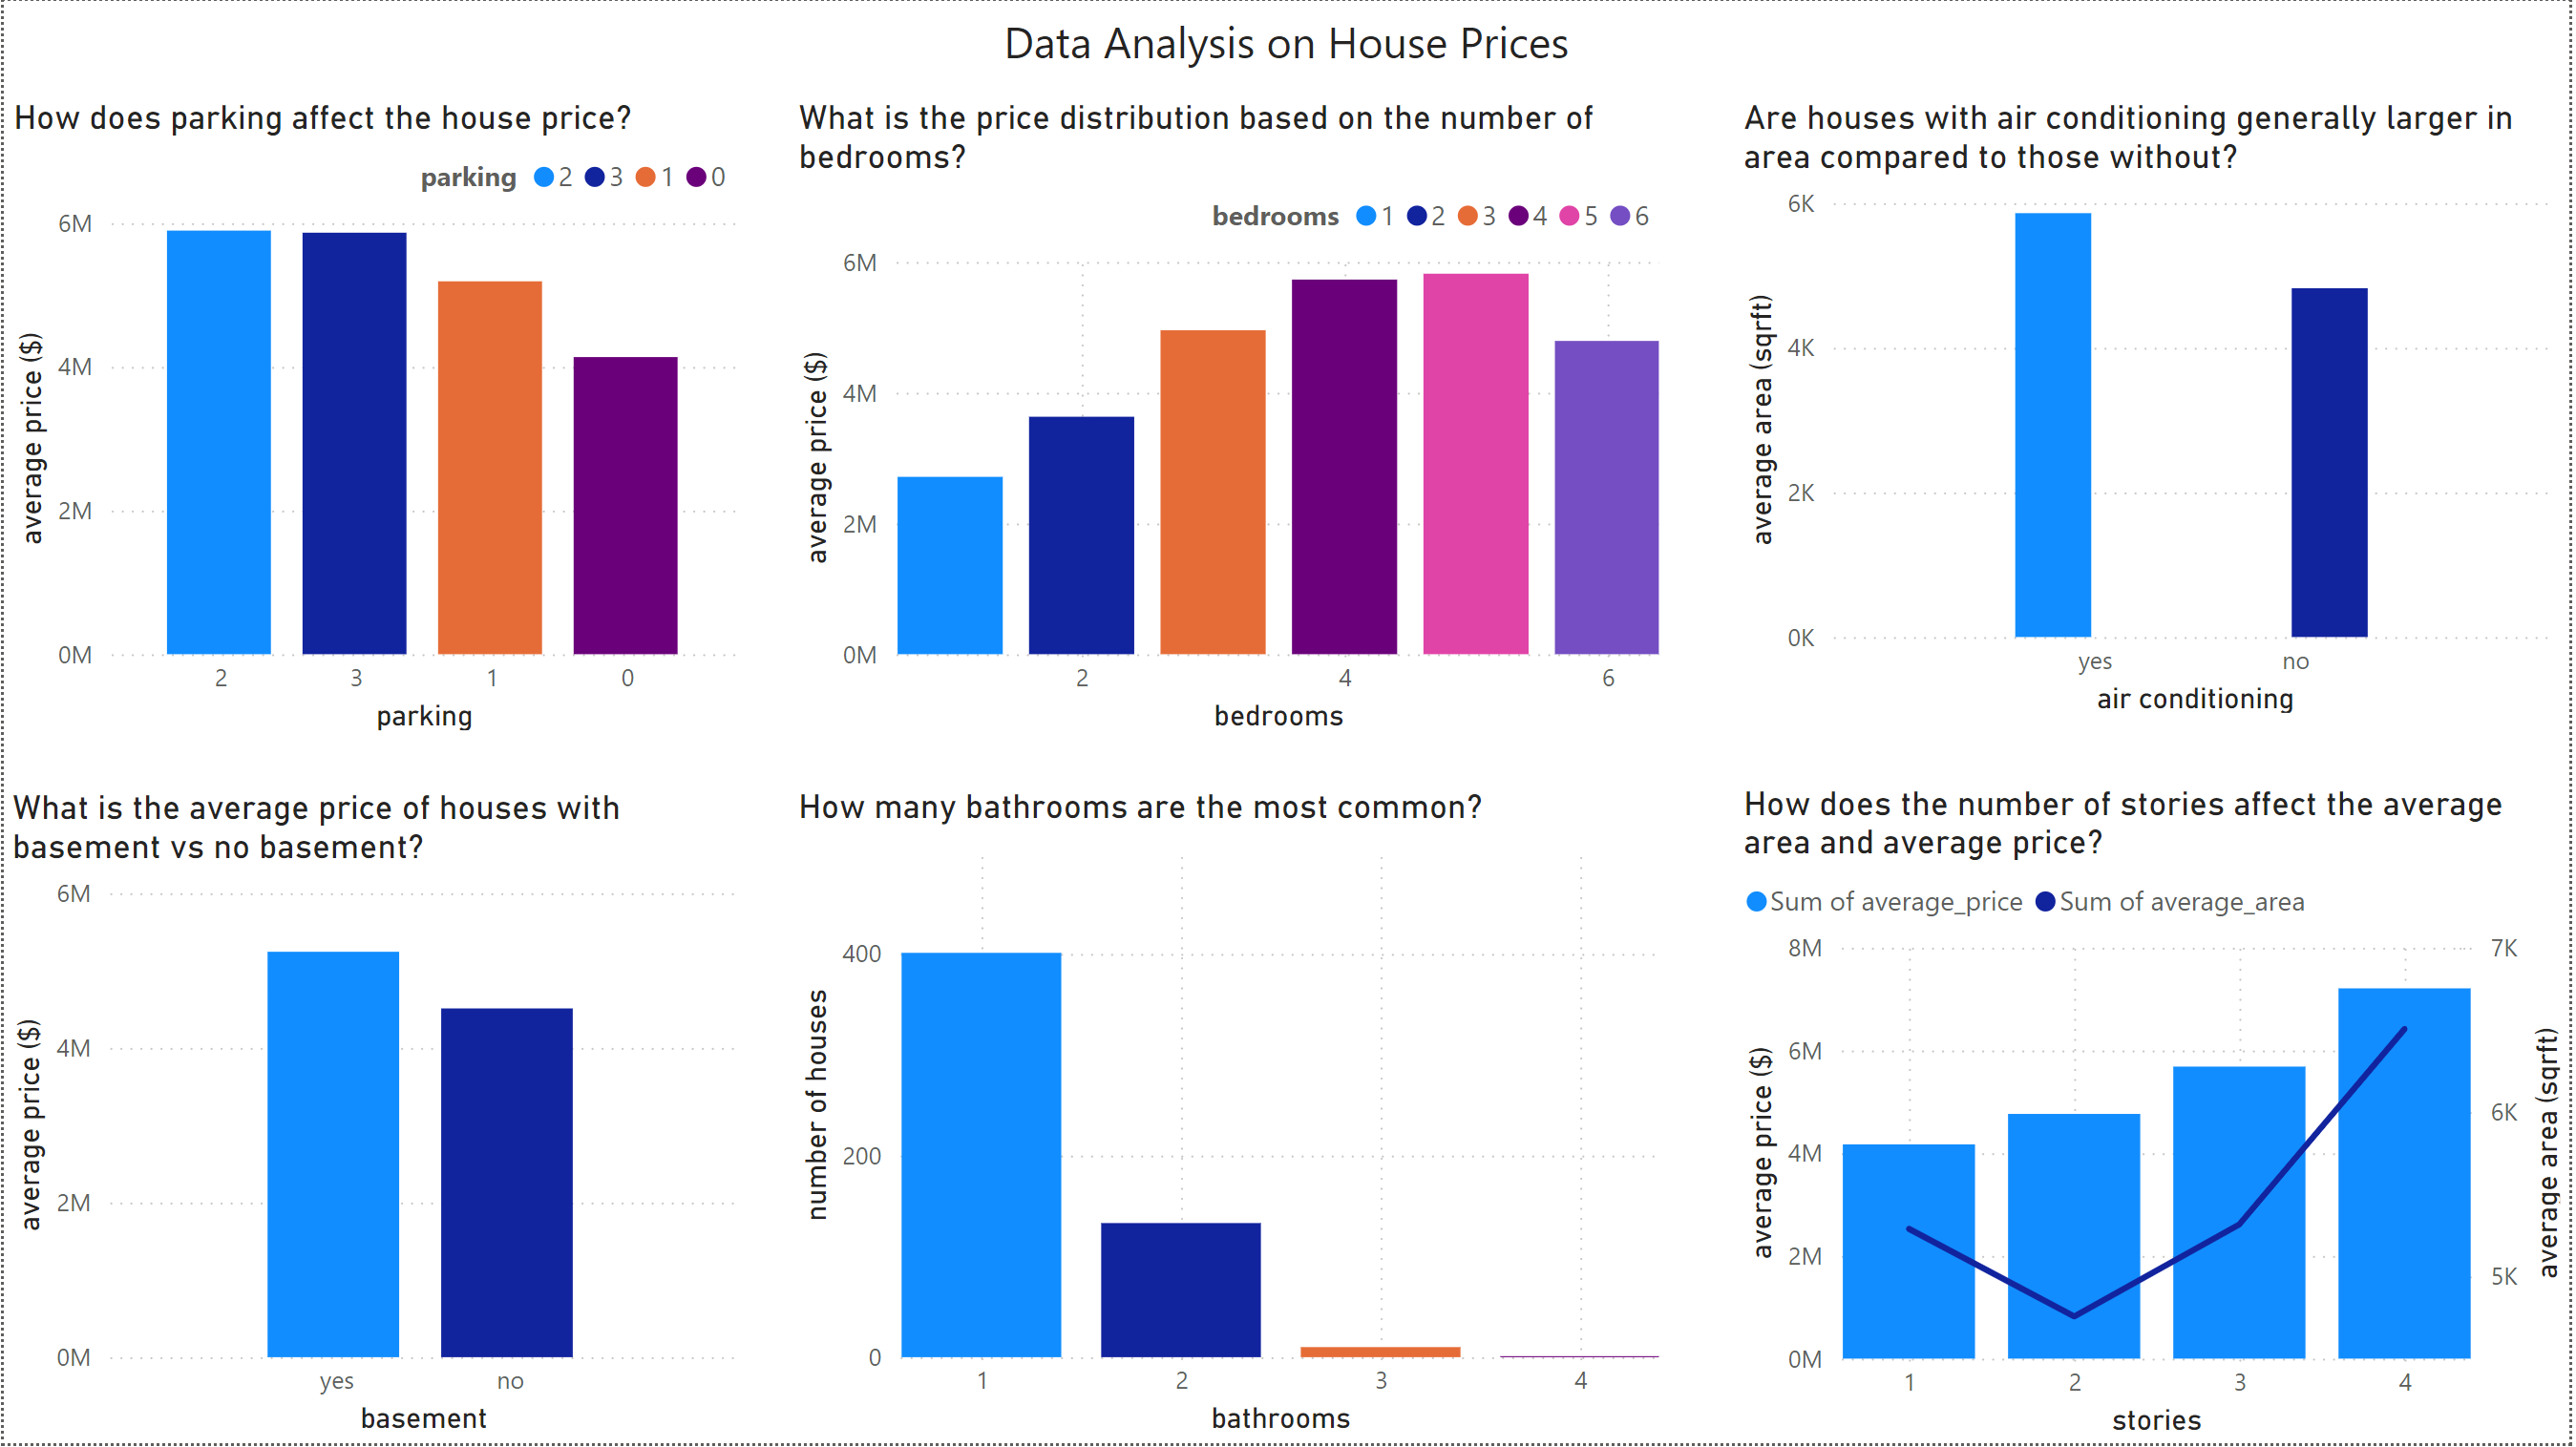

This screenshot's page, from the dashboard's own definition file:
{"tool":"powerbi","page":{"name":"Page 1","canvas":[1280,720],"ordinal":0},"visuals":[{"type":"columnChart","title":"How does parking affect the house price?","fields":{"Category":["house_price_data parking_prices.parking"],"Y":["Sum(house_price_data parking_prices.average_price)"],"Series":["house_price_data parking_prices.parking"]},"box":[0,47.9,370,320.7],"z":0},{"type":"columnChart","title":"What is the price distribution based on the number of bedrooms?","fields":{"Category":["house_price_data bedroom_prices.bedrooms"],"Series":["house_price_data bedroom_prices.bedrooms"],"Y":["Sum(house_price_data bedroom_prices.average_price)"]},"box":[391.4,47.9,439.3,320.7],"z":1000},{"type":"columnChart","title":"What is the average price of houses with basement vs no basement?","fields":{"Y":["Sum(house_price_data basement_prices.average_price)"],"Category":["house_price_data basement_prices.basement"],"Series":["house_price_data basement_prices.basement"]},"box":[-0.7,392.1,370.7,327.1],"z":2000},{"type":"columnChart","title":"How many bathrooms are the most common?","fields":{"Y":["Sum(house_price_data bathroom_counts.count)"],"Category":["house_price_data bathroom_counts.bathrooms"],"Series":["house_price_data bathroom_counts.bathrooms"]},"box":[391.4,391.4,439.3,327.9],"z":3000},{"type":"clusteredColumnChart","title":"Are houses with air conditioning generally larger in area compared to those without?","fields":{"Category":["house_price_data ac_area.air_conditioning"],"Y":["Sum(house_price_data ac_area.average_price)"],"Series":["house_price_data ac_area.air_conditioning"]},"box":[862.9,47.9,415,312.1],"z":4000},{"type":"lineStackedColumnComboChart","title":"How does the number of stories affect the average area and average price?","fields":{"Category":["house_price_data stories_price.stories"],"Y":["Sum(house_price_data stories_price.average_price)"],"Y2":["Sum(house_price_data stories_price.average_area)"]},"box":[862.9,390,417.1,330],"z":5000},{"type":"textbox","box":[0,0,1279.3,47.9],"z":6000}]}

Visuals, with their boxes in screenshot pixels (x1, y1, x2, y2), scaled from the page's 1280x720 canvas onto the 2576x1447 screenshot:
"How does parking affect the house price?" columnChart: select_region(0, 96, 745, 741)
"What is the price distribution based on the number of bedrooms?" columnChart: select_region(788, 96, 1672, 741)
"What is the average price of houses with basement vs no basement?" columnChart: select_region(0, 788, 745, 1445)
"How many bathrooms are the most common?" columnChart: select_region(788, 786, 1672, 1446)
"Are houses with air conditioning generally larger in area compared to those without?" clusteredColumnChart: select_region(1737, 96, 2572, 723)
"How does the number of stories affect the average area and average price?" lineStackedColumnComboChart: select_region(1737, 784, 2575, 1446)
textbox: select_region(0, 0, 2575, 96)
